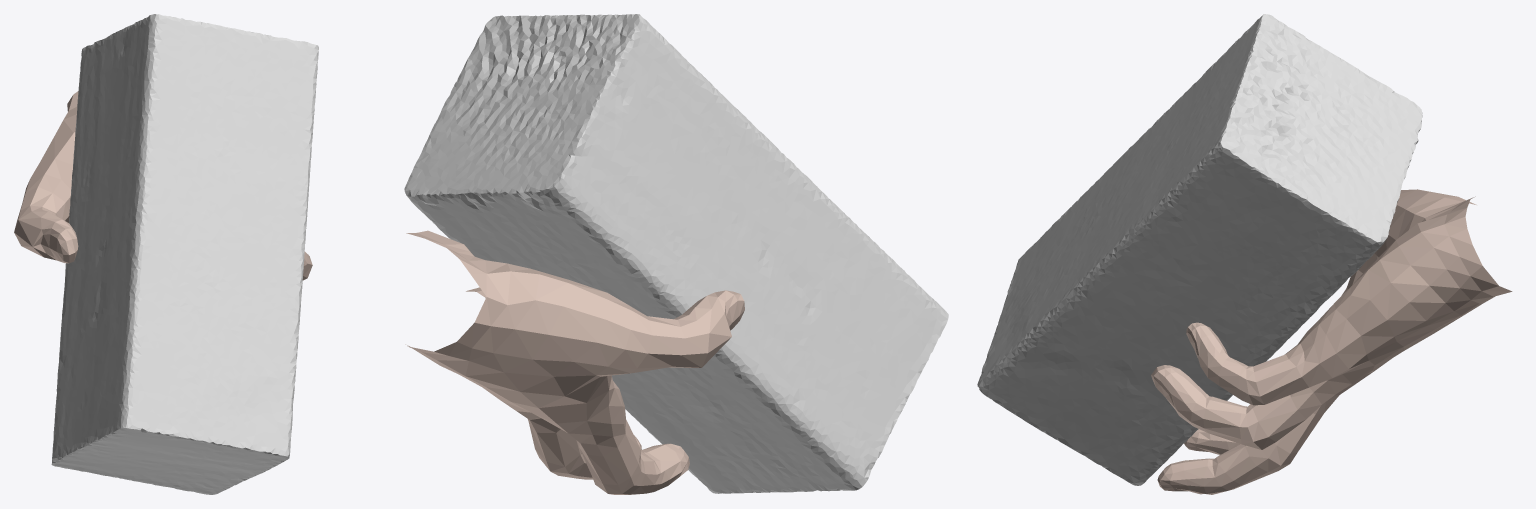
Rendered from mano_and_object_allegro0.glb.
The picture shows the model from 3 angles, left to right: view 1: azimuth 30°, elevation 25°; view 2: azimuth 150°, elevation 25°; view 3: azimuth 270°, elevation 25°; orthographic projection. The views are drawn at different scales.
Visible parts, largest first — view 1: world, mano; view 2: world, mano; view 3: world, mano.
Boxes of the visible parts, <box> form: world: <box>51,14,318,494</box>; mano: <box>14,91,312,280</box>; world: <box>404,14,948,493</box>; mano: <box>405,230,744,494</box>; world: <box>977,14,1422,485</box>; mano: <box>1151,189,1512,494</box>.
Size of the model in its own units: 0.2702 by 0.3835 by 0.3992.
